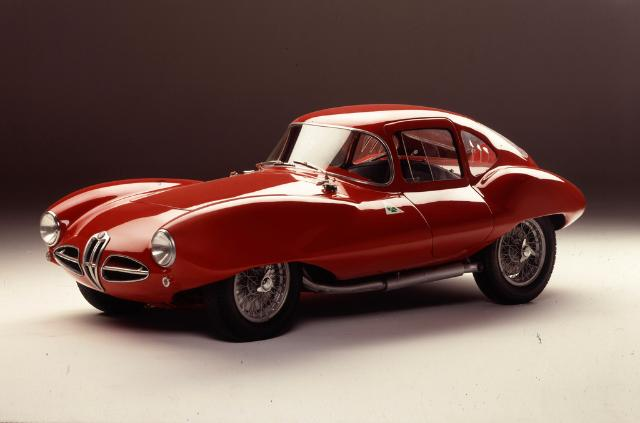alpha-romeo: (38, 103, 588, 345)
